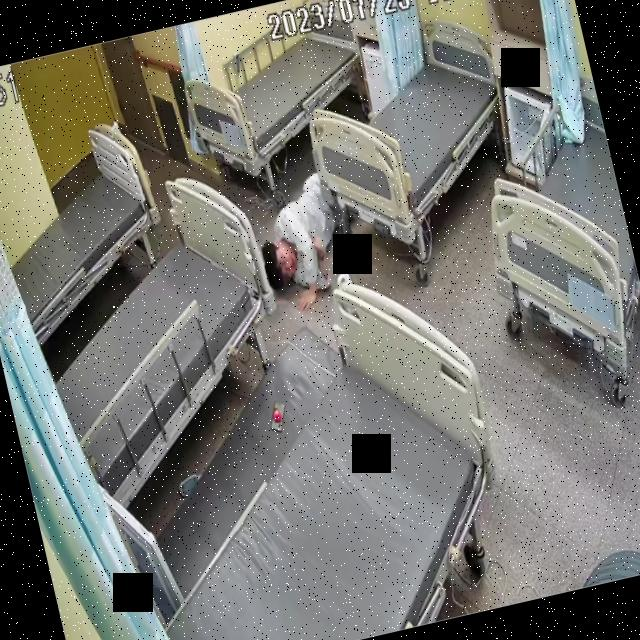bed: (99, 269, 521, 640), (12, 168, 306, 507), (459, 74, 640, 390), (289, 18, 522, 238), (0, 115, 180, 343), (178, 3, 379, 183)
fall: (232, 123, 360, 314)
patient: (231, 122, 359, 312)
